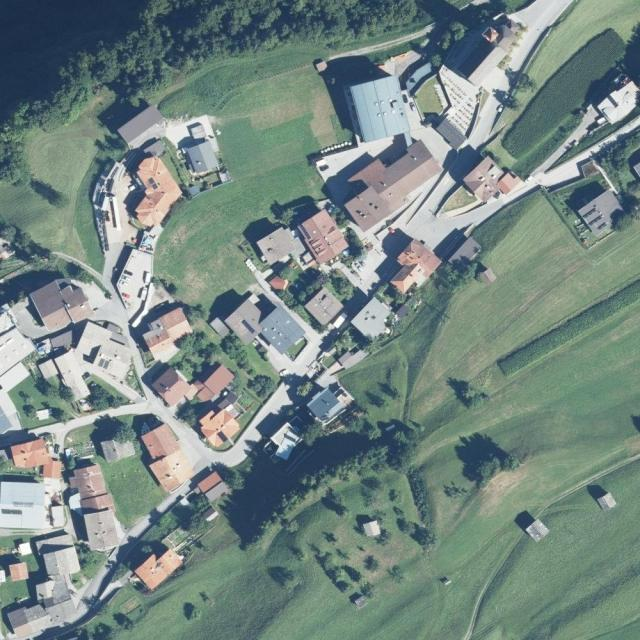building: (332, 131, 447, 235), (223, 285, 309, 372), (66, 462, 127, 555), (417, 65, 491, 136), (192, 383, 263, 455), (71, 314, 144, 382), (344, 75, 411, 144), (134, 422, 197, 495), (29, 270, 95, 335), (1, 474, 69, 534), (461, 150, 523, 212), (108, 247, 162, 318), (151, 363, 236, 407), (139, 307, 199, 366), (39, 349, 94, 410), (296, 207, 350, 267), (9, 434, 66, 489), (42, 545, 81, 624), (136, 158, 181, 226), (116, 103, 172, 156), (91, 327, 144, 382), (133, 540, 186, 592), (461, 155, 512, 206), (578, 189, 628, 238), (149, 446, 198, 494), (350, 295, 398, 344), (5, 297, 50, 347), (255, 224, 301, 268), (116, 103, 165, 144), (265, 422, 308, 464), (467, 44, 508, 88), (304, 386, 345, 427), (304, 286, 345, 327), (182, 140, 220, 179), (389, 258, 426, 296), (479, 64, 517, 101), (449, 235, 484, 272), (433, 117, 467, 151), (137, 220, 165, 256), (197, 471, 222, 495), (218, 394, 249, 413), (186, 120, 209, 144), (33, 580, 58, 602), (0, 304, 16, 333), (8, 562, 29, 582), (479, 267, 498, 286), (0, 406, 13, 433), (127, 215, 147, 232), (15, 540, 33, 557)
greenland: (157, 45, 339, 310), (210, 406, 435, 550), (491, 23, 636, 163), (510, 0, 640, 88), (123, 484, 224, 592), (83, 440, 169, 529), (416, 0, 496, 66), (415, 245, 485, 315), (8, 375, 77, 432), (391, 304, 451, 368), (70, 594, 152, 640), (163, 323, 224, 384), (0, 214, 51, 272), (216, 330, 263, 377), (244, 367, 279, 402), (154, 487, 184, 517), (183, 329, 208, 349), (500, 0, 533, 14), (206, 341, 221, 358)
metalled_road: (389, 144, 540, 261), (77, 509, 161, 613), (220, 381, 303, 476), (485, 0, 573, 73), (531, 104, 603, 184), (262, 305, 331, 381), (160, 402, 218, 474), (32, 408, 112, 456), (83, 359, 144, 406), (404, 202, 458, 255), (465, 91, 506, 151), (92, 290, 141, 335), (51, 247, 105, 281), (421, 171, 459, 215), (97, 238, 126, 292), (106, 400, 153, 420), (128, 347, 150, 384)
unmetalled_road: (327, 23, 438, 67)
